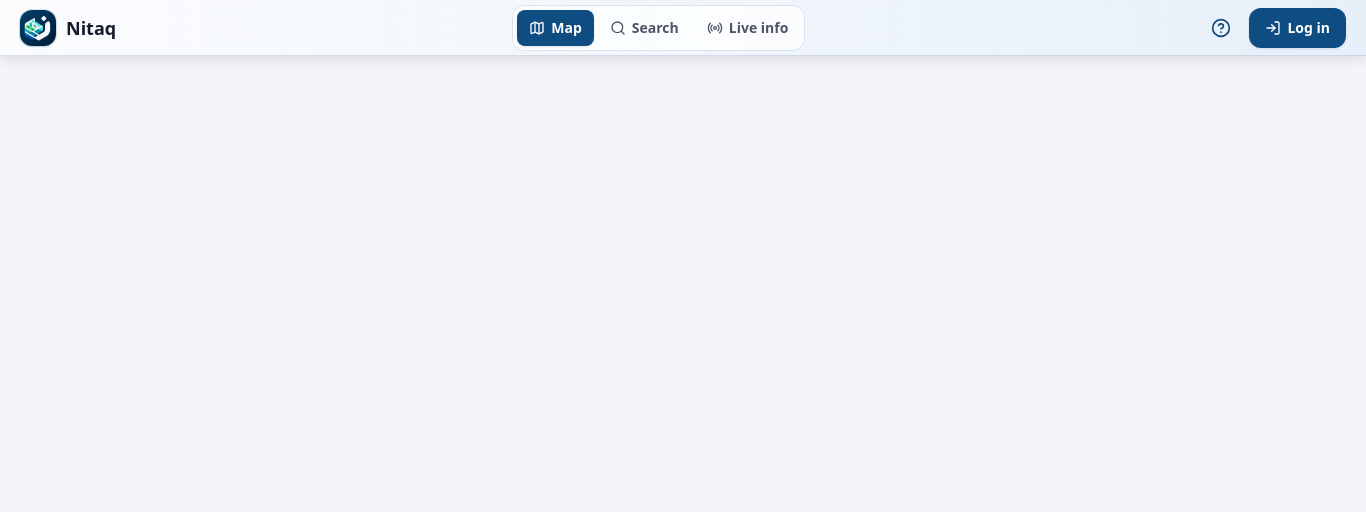
Test: install the app › is offered in the menu only after the browser says it can be installed, and only once
Click the button named "Information and help".
click(1221, 28)  # box 1201,8 -> 1241,48
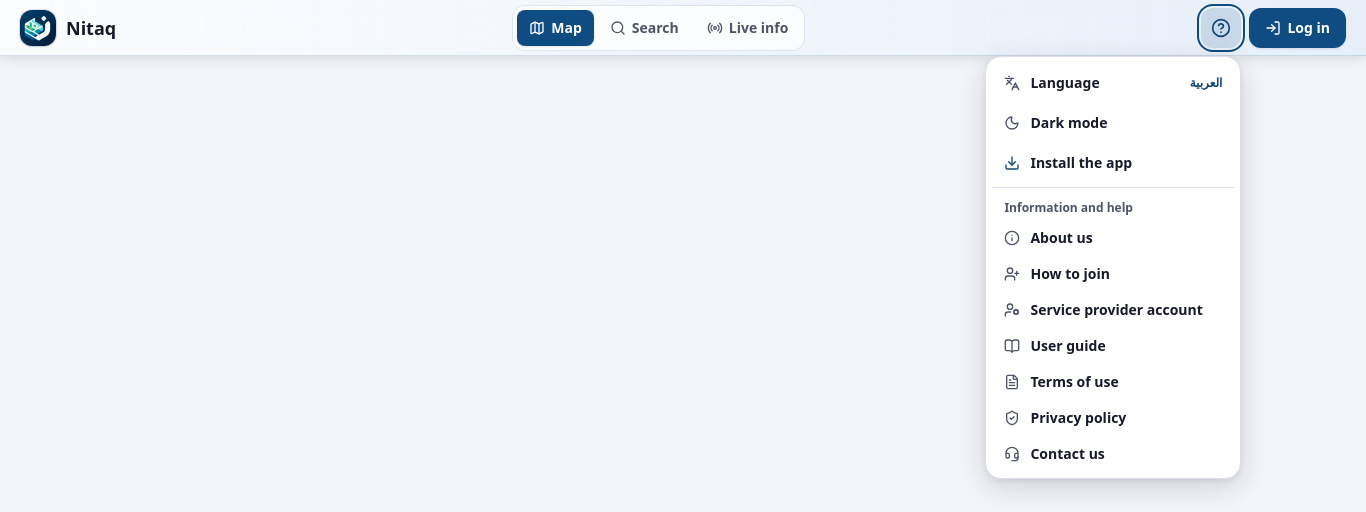
Click the button "Install the app".
click(1113, 162)  # box 992,142 -> 1234,182
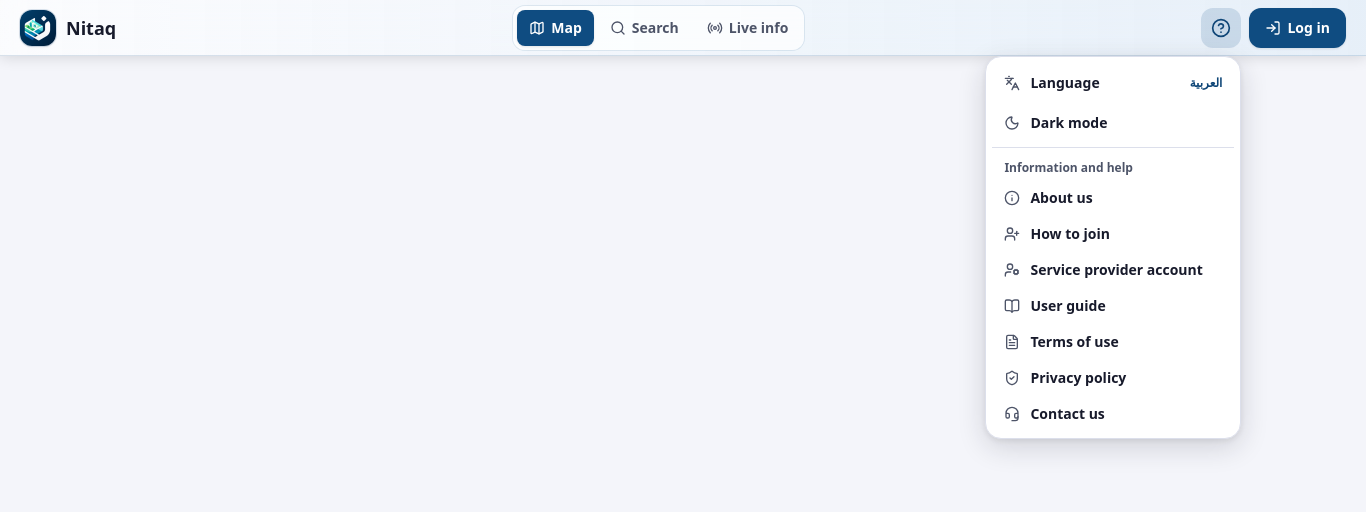
Expected: the button "Install the app" is gone
